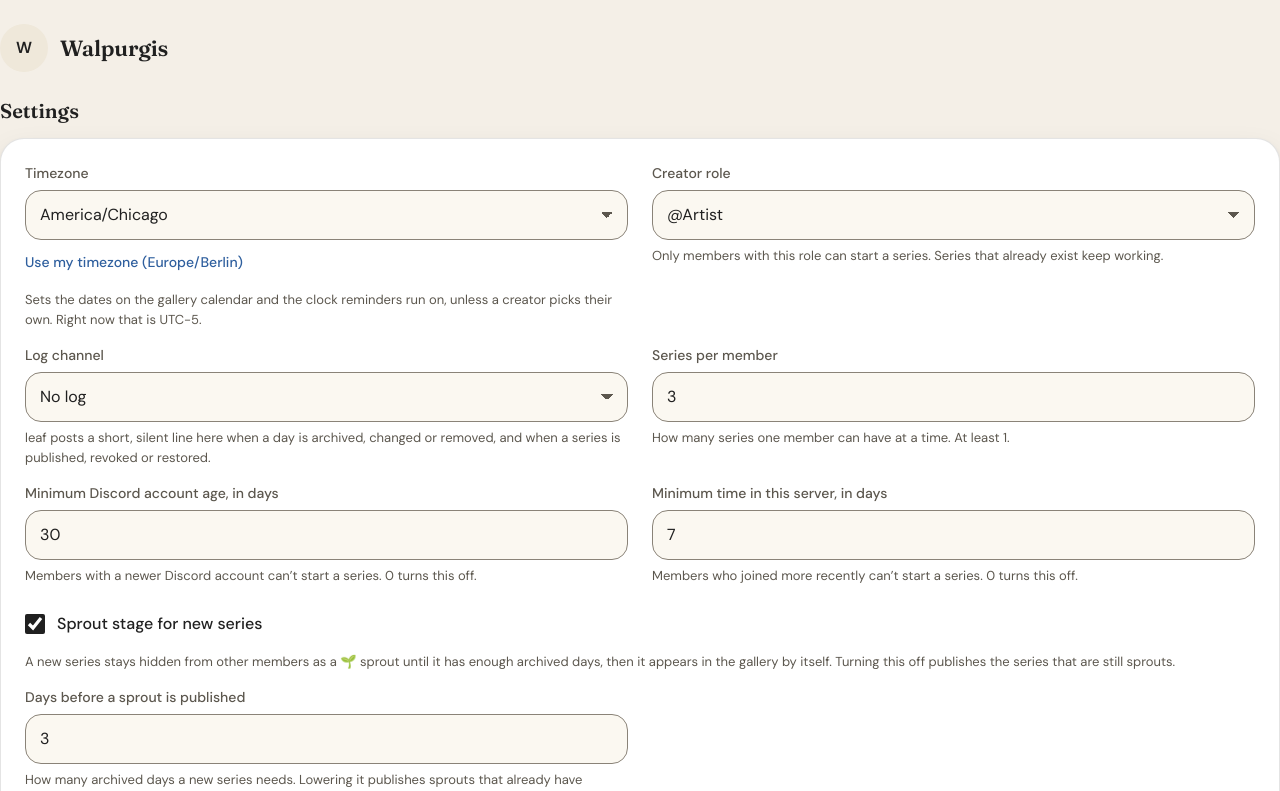
Test: GuildPanel settings › refuses an emptied number next to the field and next to Save, without a request
Expected: the heading "Settings" is shown, [0,98,79,123]
Clear the field labelled "Series per member". click: (954, 397)
box: [652,372,1255,422]
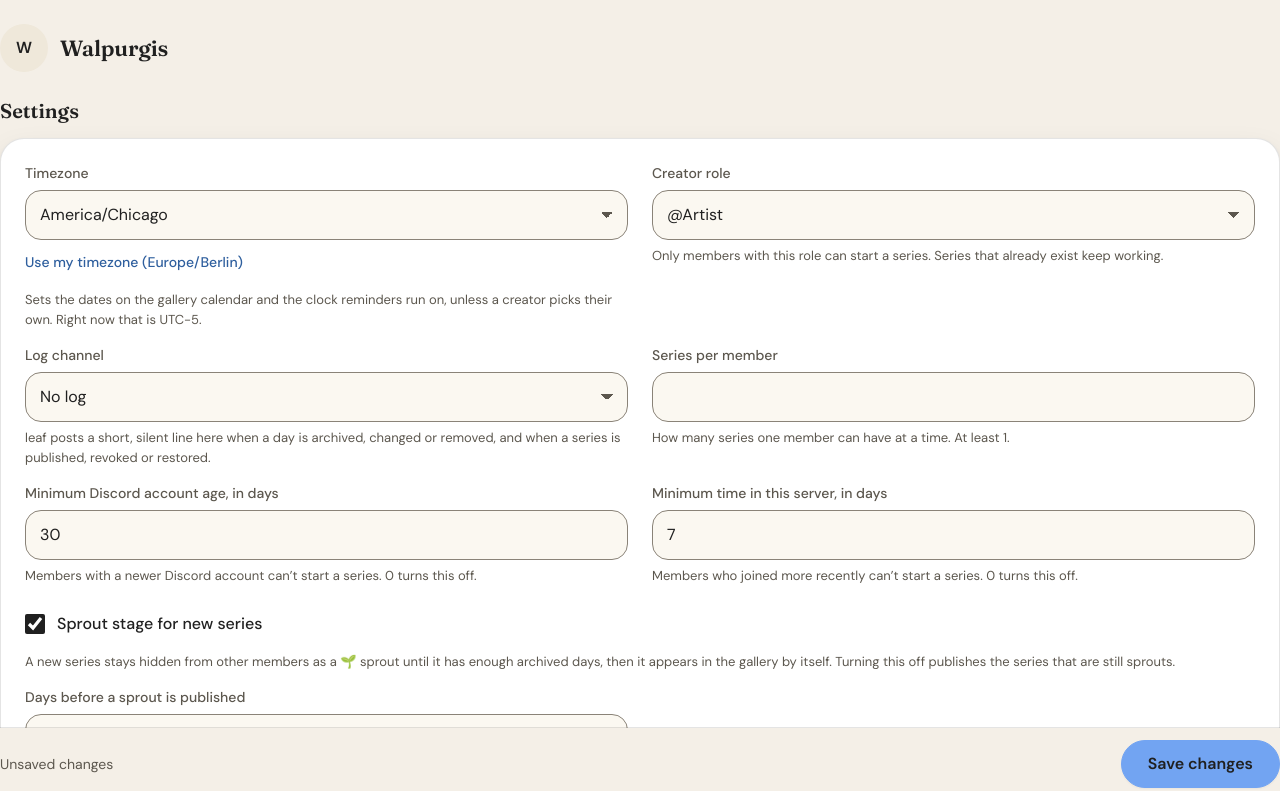
Click the button "Save changes". click: (1200, 764)
box: [1121,740,1279,788]
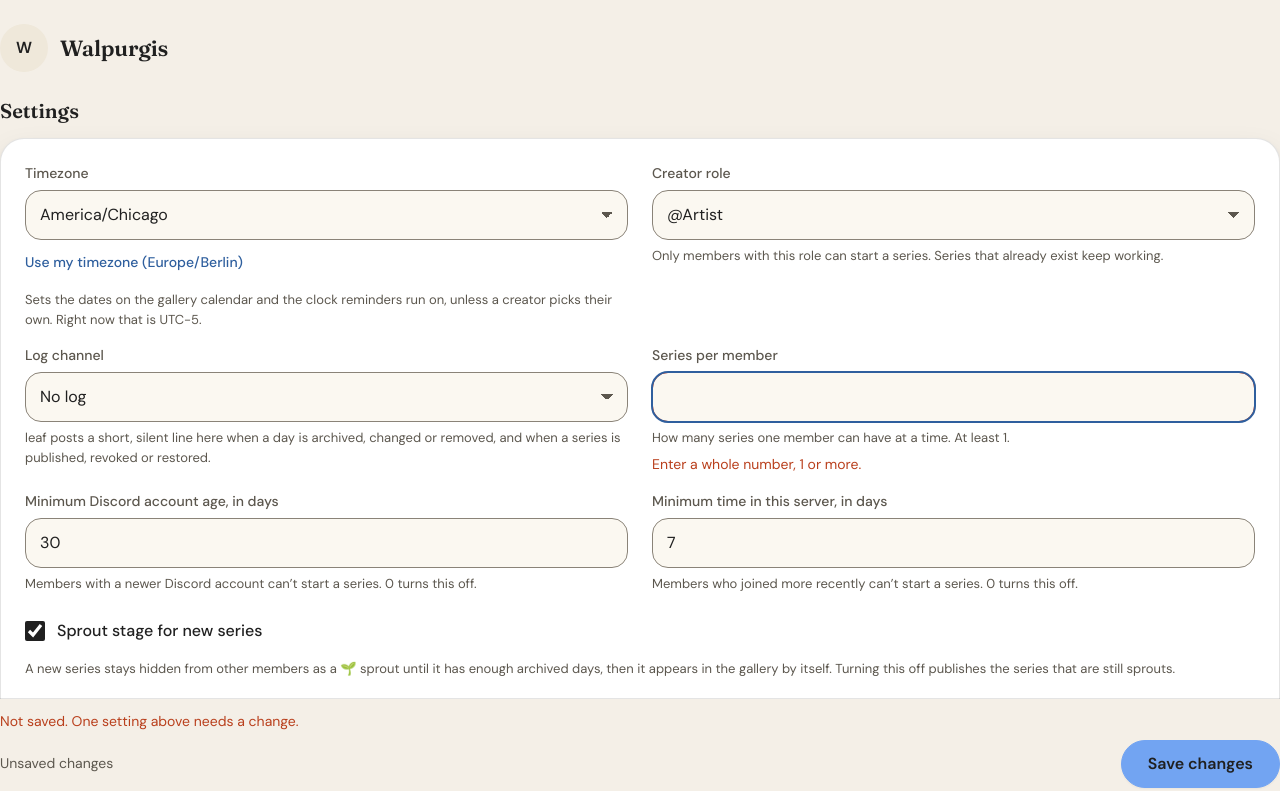
Expected: the message "Not saved. One setting above needs a change." is shown, [0,712,299,730]
Type "4" into the field labelled "Series per member". click: (954, 397)
box: [652,372,1255,422]
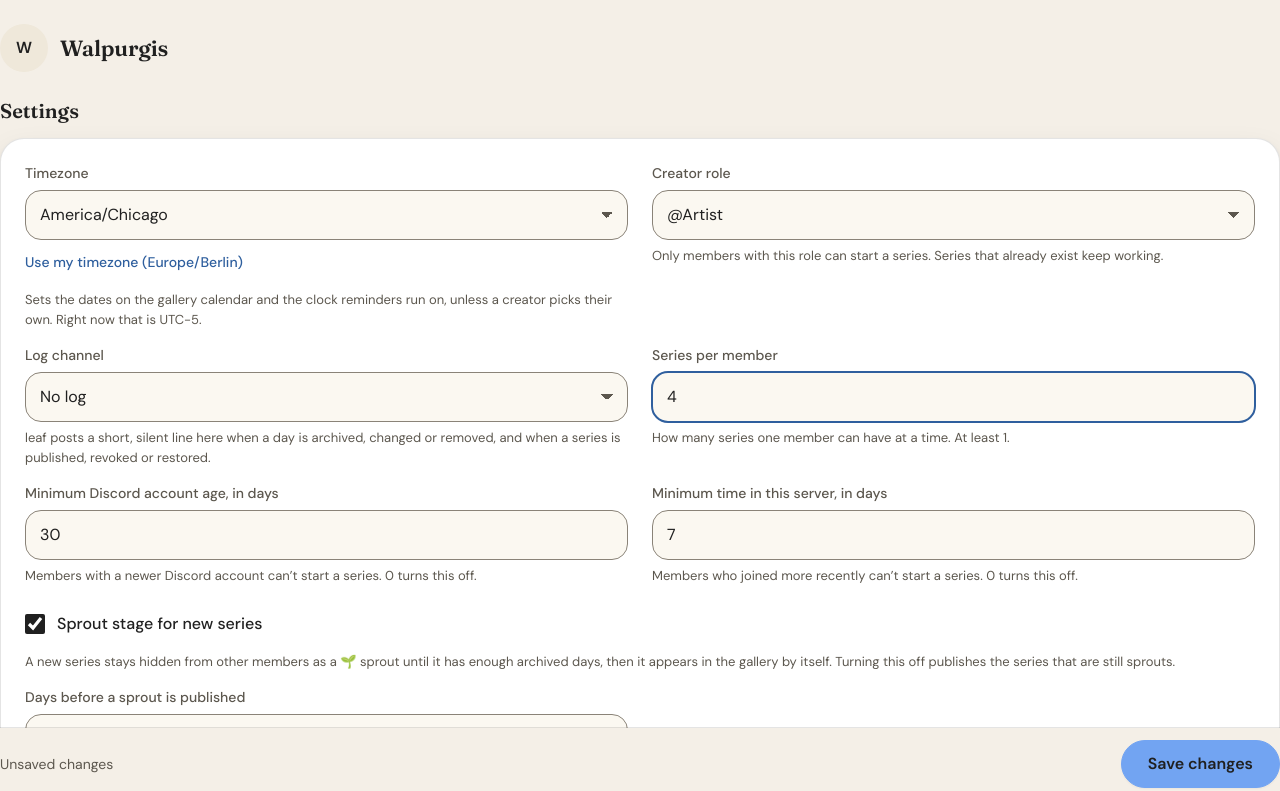
Expected: the message "Not saved. One setting above needs a change." is gone
